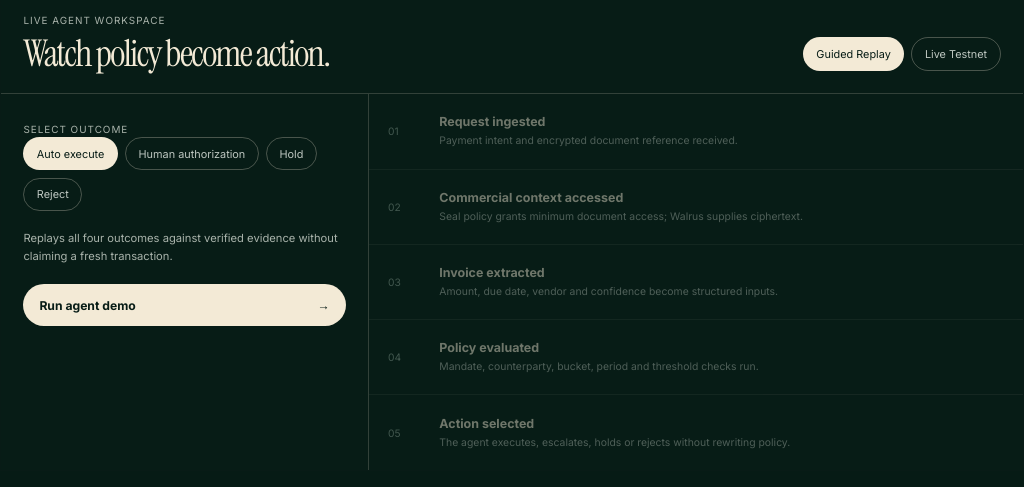
Scenario: AgentDemoRunner › limits live testnet mode to the approved autonomous scenario
The width and height of the screenshot is (1024, 487).
Click the button "Live Testnet": (956, 54) [912,37,1001,71]
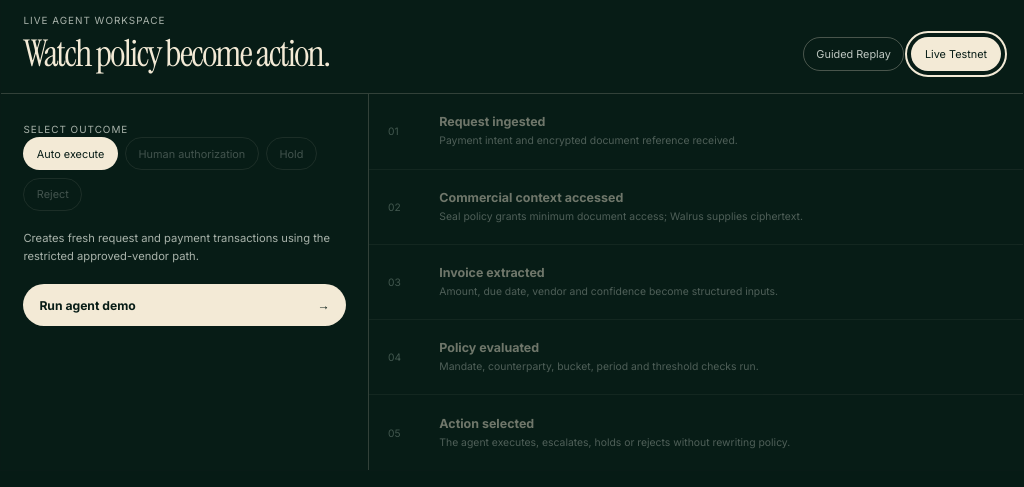
Check: the button "Human authorization" is disabled, box [125,137,259,170]
Check: the text "fresh request and payment transactions" is shown, box [23,231,330,263]
